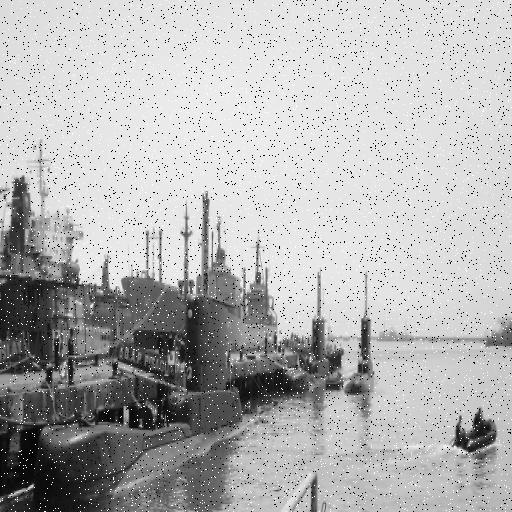submarine: (35, 295, 244, 512)
